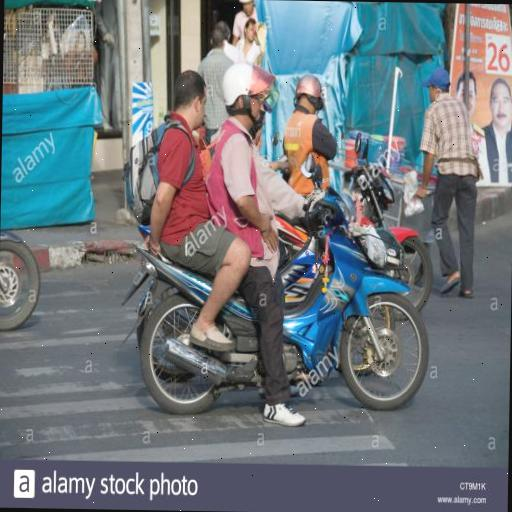helmet: (204, 50, 310, 440), (281, 74, 398, 252)
